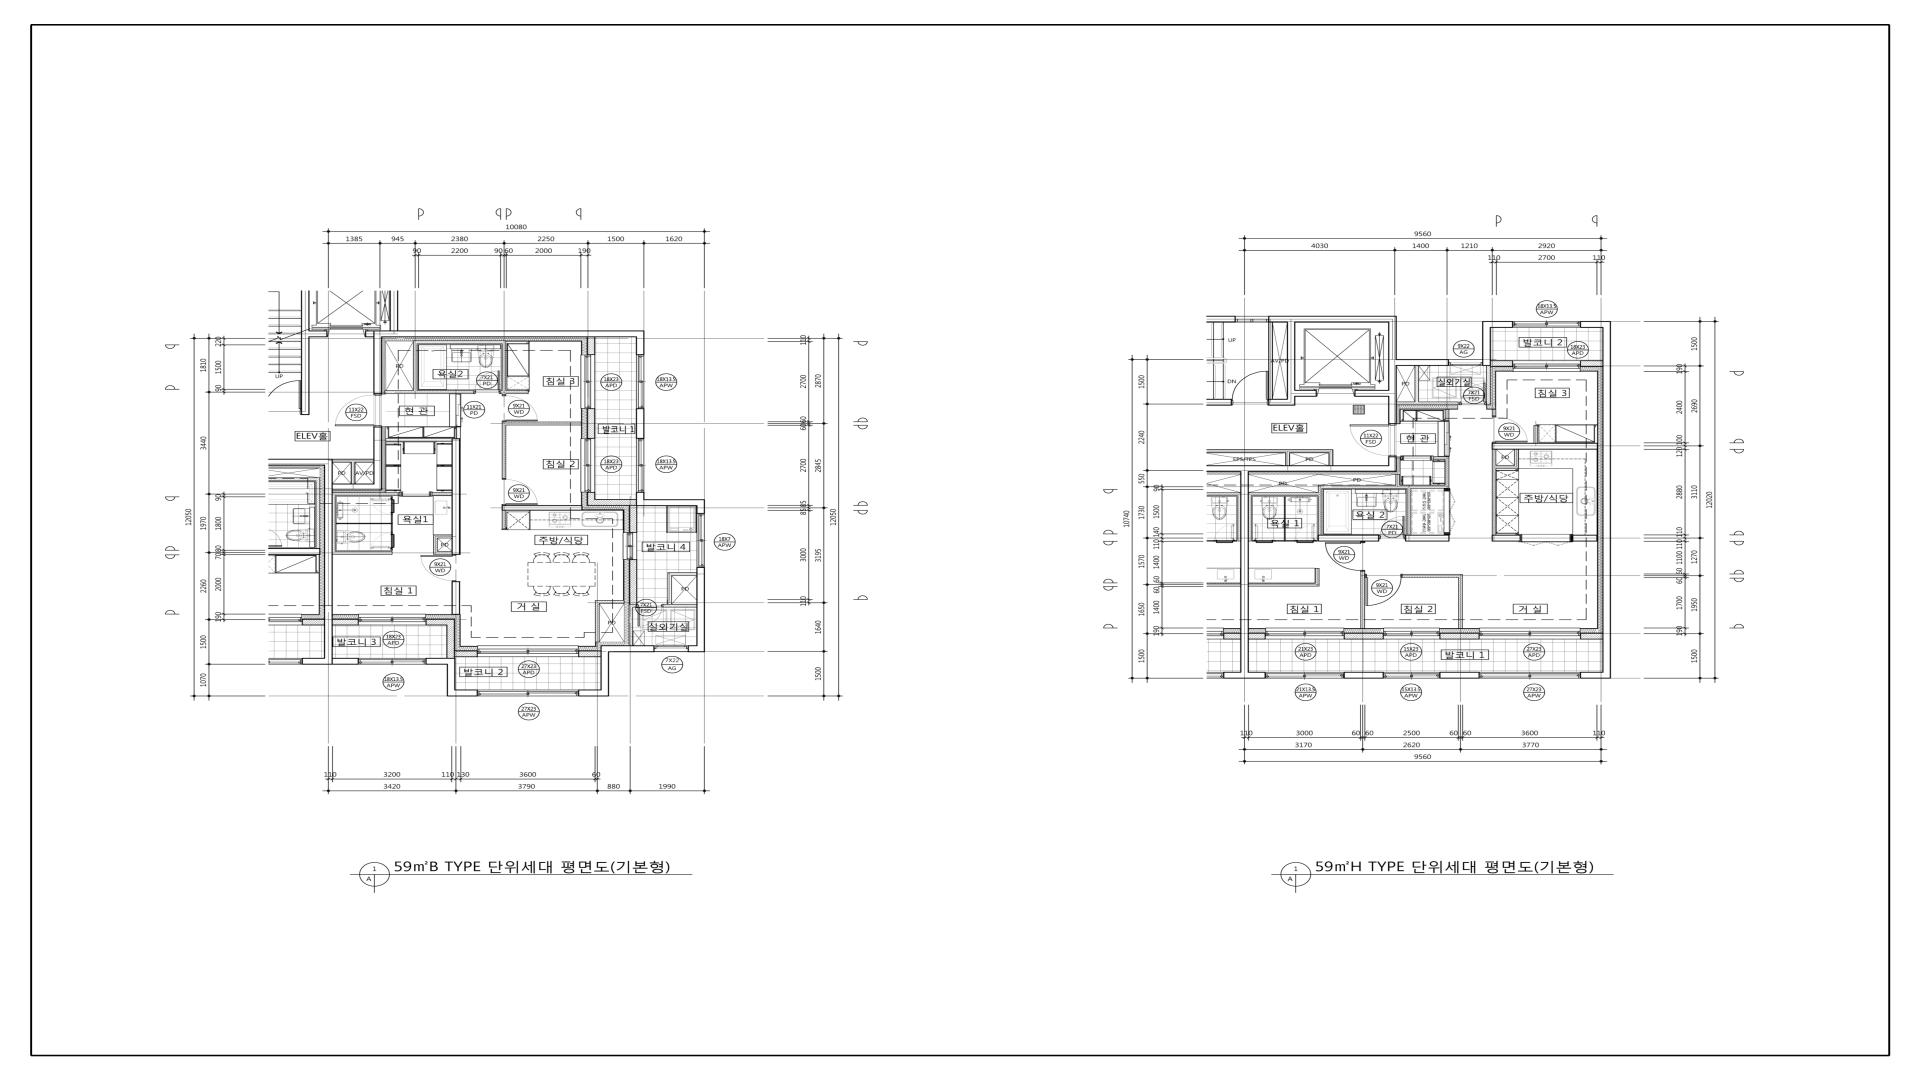door: (335, 394, 381, 427), (1350, 425, 1396, 456), (1232, 371, 1269, 406), (1365, 574, 1403, 605), (268, 381, 302, 415), (1325, 542, 1365, 571), (501, 477, 538, 505), (502, 394, 538, 422), (1491, 415, 1527, 443), (421, 555, 456, 582), (1379, 516, 1406, 539), (475, 371, 501, 394), (1520, 534, 1573, 546), (1460, 382, 1486, 405), (1444, 488, 1456, 535), (638, 604, 663, 626), (1251, 524, 1274, 543), (1296, 524, 1317, 543), (1444, 421, 1449, 456), (1400, 455, 1433, 460), (456, 394, 462, 427), (400, 492, 430, 497)
wall: (1602, 320, 1611, 679), (373, 331, 645, 338), (324, 465, 332, 665), (1241, 472, 1249, 671), (1207, 465, 1396, 472), (301, 290, 310, 415), (1269, 315, 1389, 323), (452, 439, 460, 555), (1389, 315, 1396, 425), (696, 567, 705, 645), (1491, 443, 1598, 450), (1287, 323, 1295, 406), (587, 492, 636, 505), (373, 427, 382, 484), (373, 338, 382, 394), (1207, 450, 1333, 454), (1491, 450, 1497, 535), (268, 459, 332, 465), (502, 505, 582, 510), (1317, 535, 1379, 542), (636, 500, 696, 506), (629, 604, 638, 645), (600, 645, 654, 651), (417, 340, 506, 344), (629, 559, 637, 604), (600, 651, 609, 690), (385, 390, 473, 394), (1396, 359, 1449, 365), (1482, 328, 1491, 365), (1317, 485, 1444, 488), (332, 484, 382, 491), (390, 290, 398, 331), (1224, 671, 1265, 679), (1440, 671, 1480, 679), (1344, 671, 1383, 679), (446, 625, 455, 658), (451, 582, 460, 615), (1406, 535, 1449, 542), (1249, 583, 1320, 587), (636, 409, 645, 439), (1249, 492, 1317, 496), (332, 492, 400, 496), (1344, 633, 1383, 640), (1440, 633, 1480, 640), (413, 342, 418, 390), (1482, 320, 1513, 328), (587, 409, 595, 439), (332, 551, 393, 555), (1403, 574, 1462, 578), (1207, 315, 1236, 323), (1354, 390, 1389, 397), (1361, 571, 1365, 628), (502, 422, 506, 479), (595, 600, 600, 642), (332, 496, 336, 551), (629, 506, 637, 533), (578, 690, 609, 696), (447, 690, 477, 696), (1458, 578, 1462, 628), (1207, 398, 1232, 406), (506, 422, 582, 425), (447, 665, 455, 690), (426, 658, 455, 665), (426, 618, 455, 625), (1407, 488, 1411, 535), (1319, 488, 1323, 535), (1491, 535, 1519, 542), (502, 344, 506, 390), (385, 439, 452, 442), (332, 658, 359, 665), (332, 618, 359, 625), (667, 572, 673, 604), (1581, 671, 1602, 679), (1573, 535, 1598, 542), (1396, 402, 1458, 405), (332, 459, 373, 463), (587, 338, 596, 355), (636, 338, 645, 355), (1486, 365, 1490, 405), (1295, 390, 1317, 397), (1580, 322, 1602, 328), (578, 650, 600, 657), (455, 650, 477, 657), (1269, 398, 1287, 406), (1415, 365, 1419, 402), (1491, 360, 1513, 367), (1581, 360, 1602, 367), (1581, 633, 1602, 640), (688, 645, 705, 653), (1249, 496, 1251, 542), (696, 500, 705, 513), (310, 331, 327, 338), (351, 463, 356, 484), (1445, 460, 1449, 488), (501, 390, 529, 394), (1249, 633, 1265, 640), (673, 572, 696, 576), (600, 600, 624, 604), (663, 604, 696, 607), (1514, 450, 1519, 465), (431, 492, 452, 496), (433, 534, 452, 538), (1315, 568, 1320, 583), (1389, 456, 1396, 465), (1534, 425, 1538, 443), (434, 551, 452, 555), (502, 510, 506, 529), (636, 492, 645, 500), (433, 538, 438, 551), (1433, 456, 1449, 460), (1328, 454, 1333, 465), (1497, 465, 1519, 468), (1284, 497, 1286, 541), (1395, 475, 1400, 485), (456, 426, 460, 439), (365, 331, 373, 338), (1286, 454, 1290, 465), (1445, 410, 1449, 421), (1491, 410, 1497, 415), (1274, 541, 1295, 542)
window: (1480, 628, 1581, 640), (477, 646, 579, 657), (1266, 628, 1344, 640), (1513, 360, 1580, 372), (580, 355, 595, 409), (580, 439, 595, 492), (359, 615, 426, 625), (1383, 628, 1440, 640), (477, 690, 578, 696), (1480, 673, 1580, 678), (1513, 322, 1580, 328), (359, 658, 426, 665), (696, 513, 704, 567), (1265, 673, 1344, 678), (637, 439, 645, 492), (622, 533, 637, 559), (1383, 673, 1440, 679), (637, 355, 644, 409), (654, 646, 688, 653), (1449, 359, 1482, 365), (1236, 316, 1269, 322)
